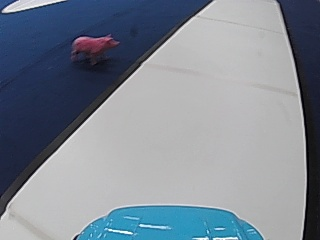pig: (70, 30, 118, 67)
